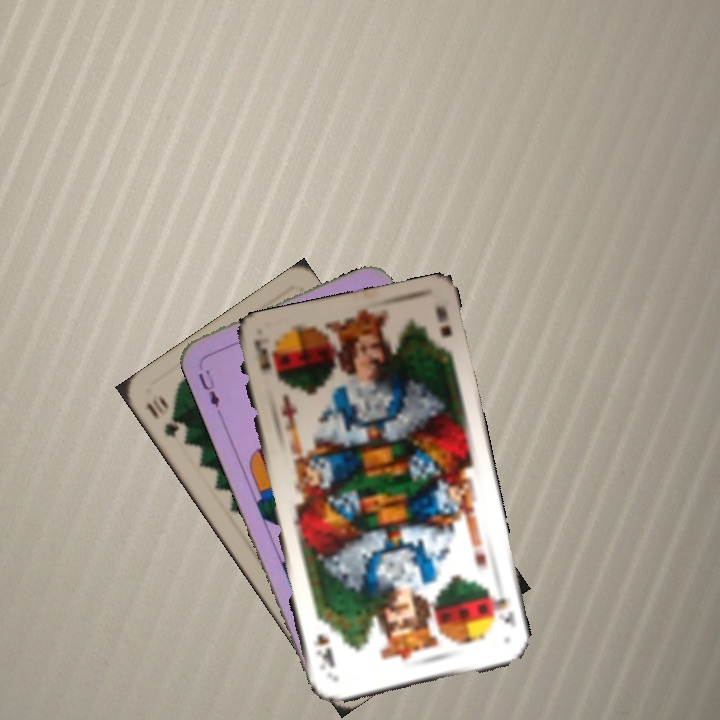EU: (194, 358, 222, 411)
G10: (142, 392, 182, 440)
SK: (484, 584, 518, 630), (249, 336, 273, 375)
